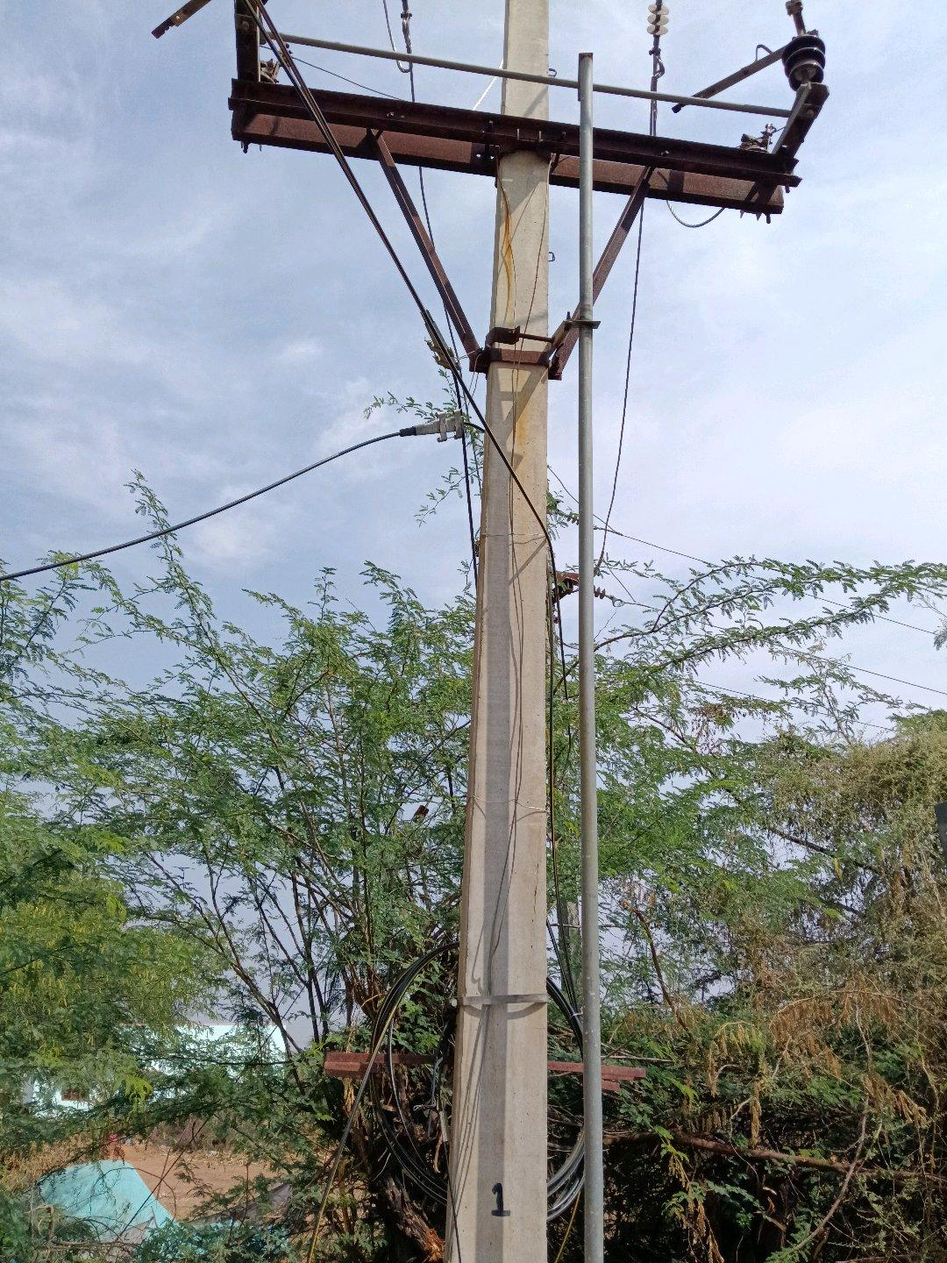{"0" "insulator", "1" "pole", "2" "crossarm", "3" "conductor", "4" "street_: (230, 0, 827, 1262), (153, 0, 211, 37), (432, 337, 448, 357), (554, 80, 570, 87), (584, 344, 590, 356), (582, 444, 589, 452), (585, 365, 589, 373), (586, 406, 587, 410)
